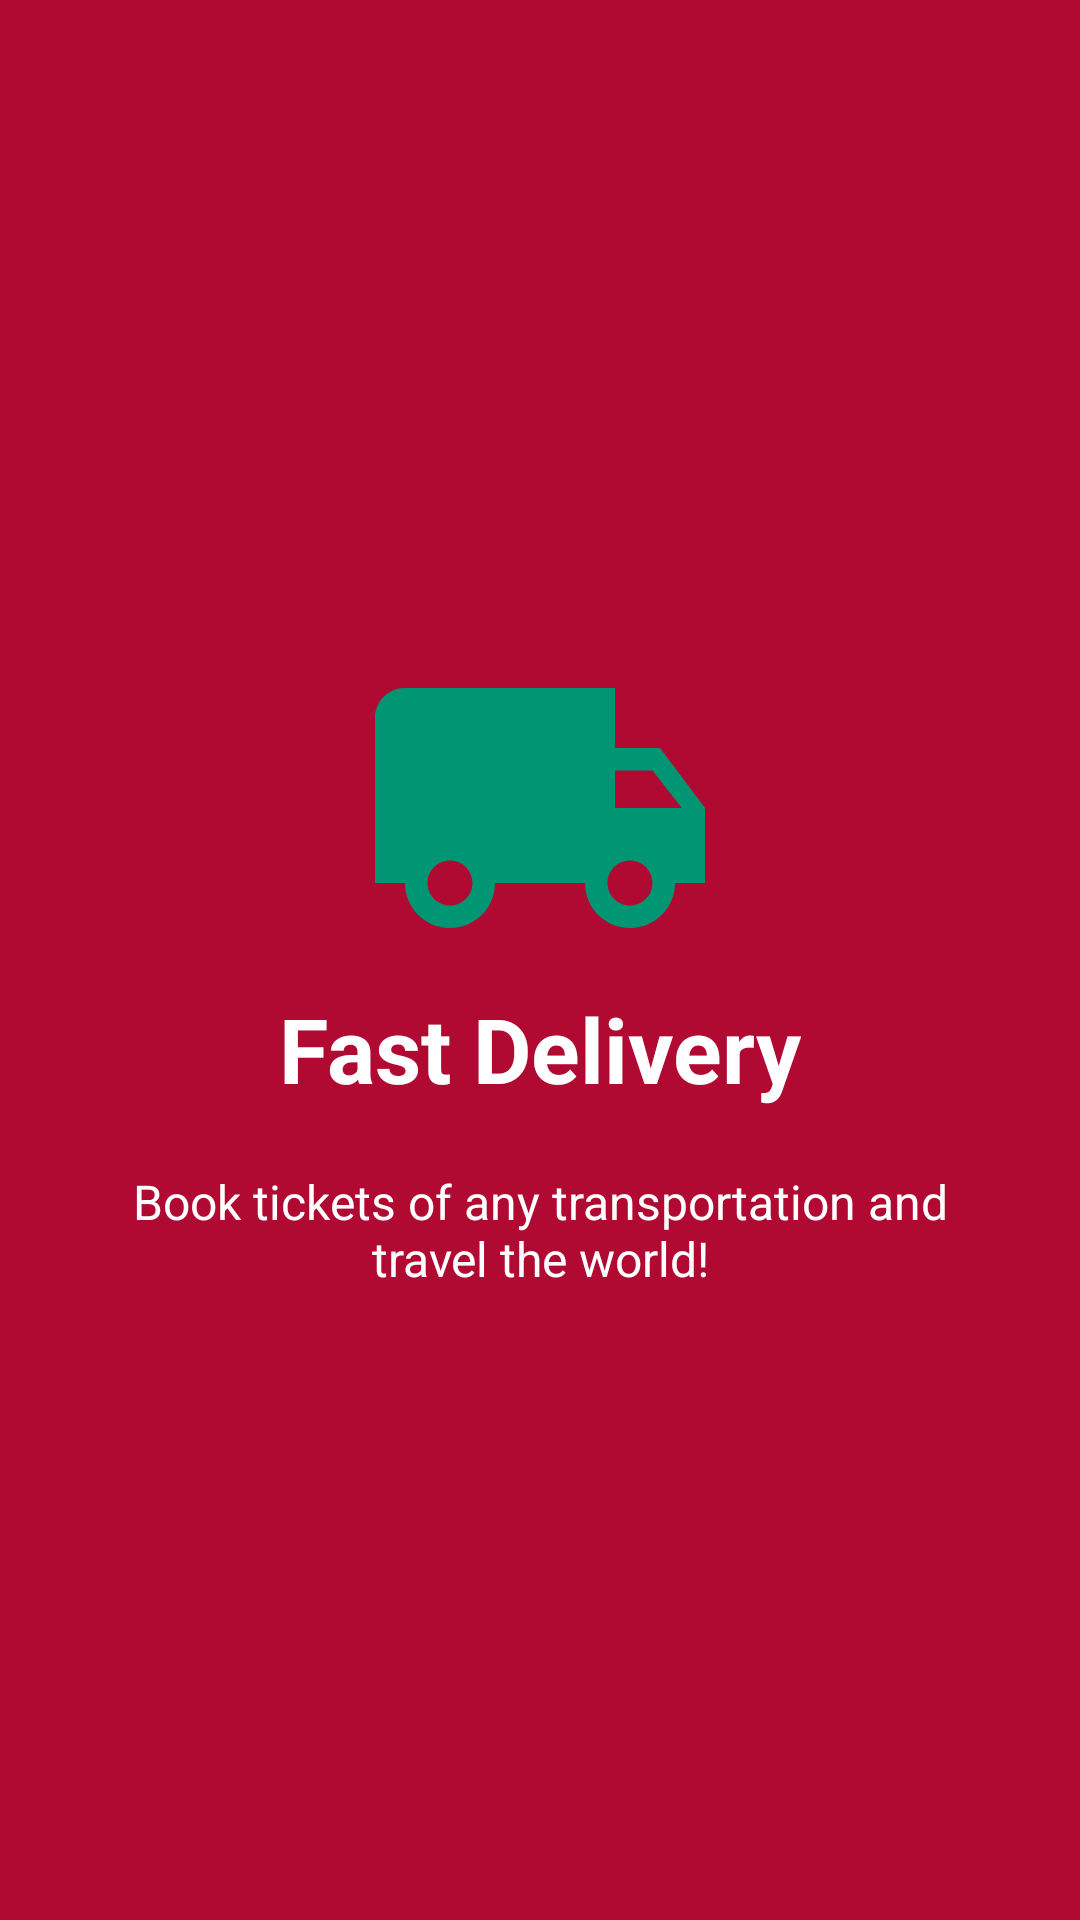

Point at icon controls on the screen. Image size 1080*1920, points as (x=x, y=y).
local shipping: (x=540, y=808)
